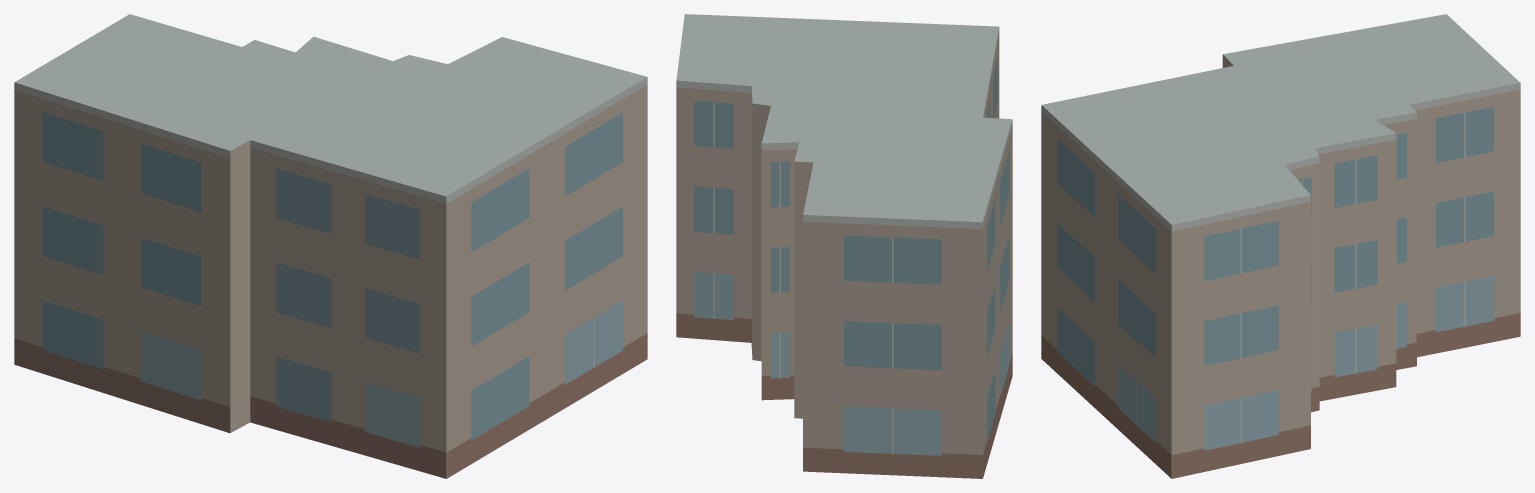
Rendered from survey-upis-32757341.glb.
3 renders of one model, left to right at view 1: azimuth 30°, elevation 25°; view 2: azimuth 150°, elevation 25°; view 3: azimuth 270°, elevation 25°, orthographic. The views are drawn at different scales.
Visible parts, largest first — view 1: survey-upis-32757341.tmp; view 2: survey-upis-32757341.tmp; view 3: survey-upis-32757341.tmp.
Boxes of the visible parts, box(x1,y1,x2,y2) form: survey-upis-32757341.tmp: box(14, 14, 647, 478); survey-upis-32757341.tmp: box(676, 14, 1012, 478); survey-upis-32757341.tmp: box(1041, 14, 1520, 478).
Size of the model in its own units: 16.31 by 9.15 by 15.65.
